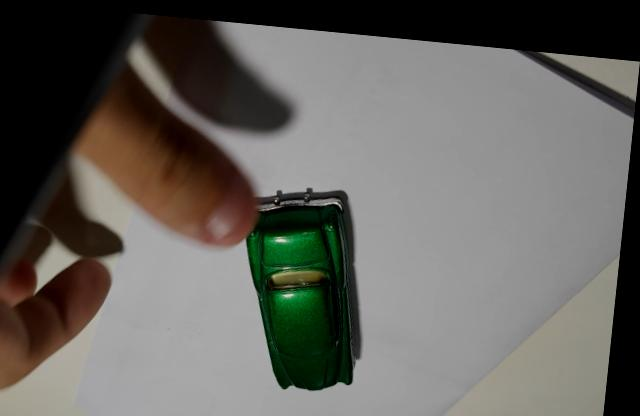06_MASERATI: (250, 182, 370, 383)
